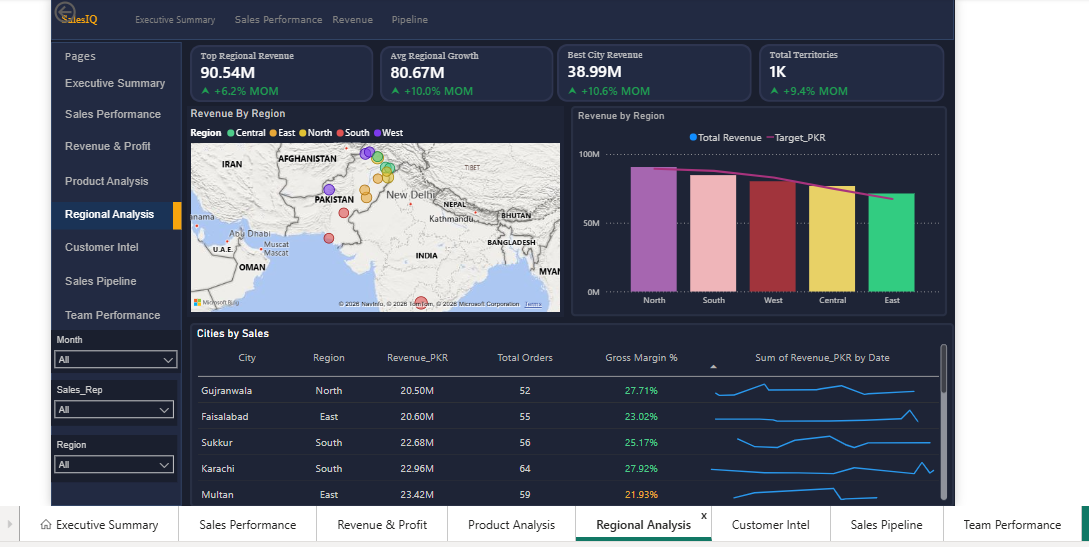

What the dashboard file says about the page in this screenshot:
{"tool":"powerbi","page":{"name":"Regional Analysis","canvas":[1280,720],"ordinal":4},"visuals":[{"type":"shape","box":[0,0,1279.8,59.5],"z":0,"group":"g9"},{"type":"shape","box":[0,62,185,657.6],"z":0,"group":"g7"},{"type":"cardVisual","title":"Total Revenue ","fields":{"Data":["Table1.Avg Regional Growth"]},"box":[466,68,246,79],"z":0},{"type":"actionButton","box":[0,103.3,185,39.4],"z":0,"group":"g1"},{"type":"actionButton","box":[0,146.7,185,39.4],"z":0,"group":"g2"},{"type":"actionButton","box":[0,192,186,37.3],"z":0,"group":"g3"},{"type":"actionButton","box":[0,242.2,185,39.4],"z":0,"group":"g4"},{"type":"actionButton","box":[0,289.4,185,39.4],"z":0,"group":"g5"},{"type":"actionButton","box":[0,336.2,185,39.4],"z":0,"group":"g6"},{"type":"actionButton","box":[0,383.7,185,39.4],"z":0,"group":"g10"},{"type":"actionButton","box":[0,431.3,185,39.4],"z":0,"group":"g8"},{"type":"actionButton","box":[109,6.9,134,45.8],"z":1000,"group":"g9"},{"type":"cardVisual","title":"Total Revenue ","fields":{"Data":["Table1.Top Regional Revenue"]},"box":[197,66,260,81],"z":1000},{"type":"group","id":"g1","title":"Executive summary 1","box":[0,103.3,185,39.4],"z":1000,"group":"g7"},{"type":"shape","box":[173,289.4,12,39.4],"z":1000,"group":"g5"},{"type":"actionButton","box":[255,6.9,135,45.8],"z":2000,"group":"g9"},{"type":"cardVisual","title":"Total Revenue ","fields":{"Data":["Table1.Total Territories"]},"box":[1003,65,263,82.2],"z":2000},{"type":"group","id":"g2","title":"Executive summary 1","box":[0,146.7,185,39.4],"z":2000,"group":"g7"},{"type":"actionButton","box":[390,6.9,76,45.8],"z":3000,"group":"g9"},{"type":"cardVisual","title":"Total Revenue ","fields":{"Data":["Table1.Best City Revenue"]},"box":[717,65.2,276.4,82.2],"z":3000},{"type":"group","id":"g3","title":"Executive summary 1","box":[0,192,186,37.3],"z":3000,"group":"g7"},{"type":"slicer","fields":{"Values":["Table1.Region"]},"box":[1097,3,172.9,48.2],"z":4000},{"type":"actionButton","box":[465.9,6.9,85,45.8],"z":4000,"group":"g9"},{"type":"group","id":"g4","title":"Executive summary 1","box":[0,242.2,185,39.4],"z":4000,"group":"g7"},{"type":"slicer","fields":{"Values":["Table1.Product_Category"]},"box":[914.2,3,172.9,49.6],"z":5000},{"type":"group","id":"g5","title":"Executive summary 1","box":[0,289.4,185,39.4],"z":5000,"group":"g7"},{"type":"slicer","fields":{"Values":["Calendar.Month"]},"box":[725.7,3,172.9,49.6],"z":6000},{"type":"group","id":"g6","title":"Executive summary 1","box":[0,336.2,185,39.4],"z":6000,"group":"g7"},{"type":"group","id":"g7","title":"1 side bar","box":[0,62,186,657.6],"z":7000},{"type":"group","id":"g8","title":"Executive summary 1","box":[0,431.3,185,39.4],"z":7000,"group":"g7"},{"type":"group","id":"g9","title":"1 Header","box":[0,0,1280,59.1],"z":8000},{"type":"group","id":"g10","title":"Executive summary 1","box":[0,383.7,185,39.4],"z":8000,"group":"g7"},{"type":"slicer","fields":{"Values":["Table1.Sales_Rep"]},"box":[0,541.4,178.6,65.2],"z":9000},{"type":"slicer","fields":{"Values":["Table1.Region"]},"box":[0,619.4,178.6,66.6],"z":10000},{"type":"actionButton","box":[0,0,100,40],"z":11000},{"type":"tableEx","title":"Cities  by Sales","fields":{"Values":["Table1.City","Table1.Region","Sum(Table1.Revenue_PKR)","Table1.Total Orders","Table1.Gross Margin %","SparklineData(Sum(Table1.Revenue_PKR)_[Calendar.Date])"]},"box":[197,460.6,1082.8,260.8],"z":12000},{"type":"map","title":"Revenue By Region","fields":{"Category":["Table1.City"],"Series":["Table1.Region"],"Size":["Sum(Table1.Revenue_PKR)"]},"box":[192.8,153.1,532.9,297.6],"z":13000},{"type":"lineClusteredColumnComboChart","title":"Revenue by Region","fields":{"Category":["Table1.Region"],"Y2":["Sum(Table1.Target_PKR)"],"Y":["Sum(Table1.Revenue_PKR)"]},"box":[737,153.1,532.9,297.6],"z":14000},{"type":"slicer","fields":{"Values":["Calendar.Month"]},"box":[0,470.6,184.3,60.9],"z":15000}]}

Visuals, with their boxes on the page's 1280x720 design canvas (x1, y1, x2, y2). These are canvas units, not pixel positions in the 1089x547 screenshot, which may show the page scaled, cropped or inside an application window:
shape: box=[0, 0, 1280, 60]
shape: box=[0, 62, 185, 720]
"Total Revenue " cardVisual: box=[466, 68, 712, 147]
actionButton: box=[0, 103, 185, 143]
actionButton: box=[0, 147, 185, 186]
actionButton: box=[0, 192, 186, 229]
actionButton: box=[0, 242, 185, 282]
actionButton: box=[0, 289, 185, 329]
actionButton: box=[0, 336, 185, 376]
actionButton: box=[0, 384, 185, 423]
actionButton: box=[0, 431, 185, 471]
actionButton: box=[109, 7, 243, 53]
"Total Revenue " cardVisual: box=[197, 66, 457, 147]
"Executive summary 1" group: box=[0, 103, 185, 143]
shape: box=[173, 289, 185, 329]
actionButton: box=[255, 7, 390, 53]
"Total Revenue " cardVisual: box=[1003, 65, 1266, 147]
"Executive summary 1" group: box=[0, 147, 185, 186]
actionButton: box=[390, 7, 466, 53]
"Total Revenue " cardVisual: box=[717, 65, 993, 147]
"Executive summary 1" group: box=[0, 192, 186, 229]
slicer - Table1.Region: box=[1097, 3, 1270, 51]
actionButton: box=[466, 7, 551, 53]
"Executive summary 1" group: box=[0, 242, 185, 282]
slicer - Table1.Product_Category: box=[914, 3, 1087, 53]
"Executive summary 1" group: box=[0, 289, 185, 329]
slicer - Calendar.Month: box=[726, 3, 899, 53]
"Executive summary 1" group: box=[0, 336, 185, 376]
"1 side bar" group: box=[0, 62, 186, 720]
"Executive summary 1" group: box=[0, 431, 185, 471]
"1 Header" group: box=[0, 0, 1280, 59]
"Executive summary 1" group: box=[0, 384, 185, 423]
slicer - Table1.Sales_Rep: box=[0, 541, 179, 607]
slicer - Table1.Region: box=[0, 619, 179, 686]
actionButton: box=[0, 0, 100, 40]
"Cities  by Sales" tableEx: box=[197, 461, 1280, 721]
"Revenue By Region" map: box=[193, 153, 726, 451]
"Revenue by Region" lineClusteredColumnComboChart: box=[737, 153, 1270, 451]
slicer - Calendar.Month: box=[0, 471, 184, 532]
